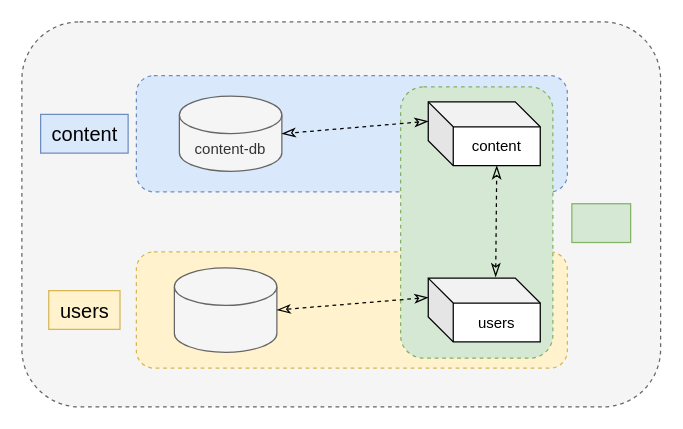
Image size: 683x429. Some labels were removed from this diagram. The shapes that lost their labels are listed below. From the top down, each one's centre as x and y in pixels, then its label:
[601,222]: apis
[225,309]: users-db
